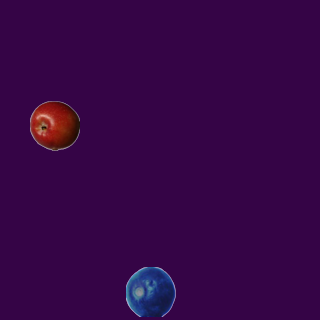Apple Braeburn: (29, 100, 79, 150)
Huckleberry: (125, 266, 175, 316)
